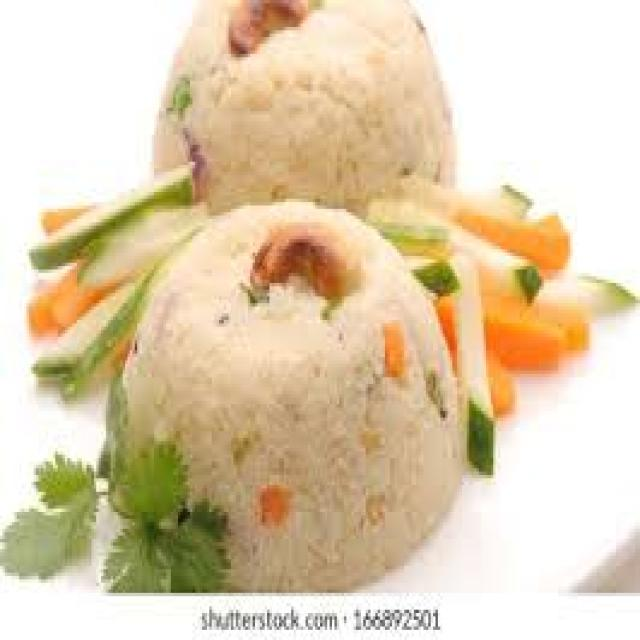UPMA: (99, 202, 464, 586)
